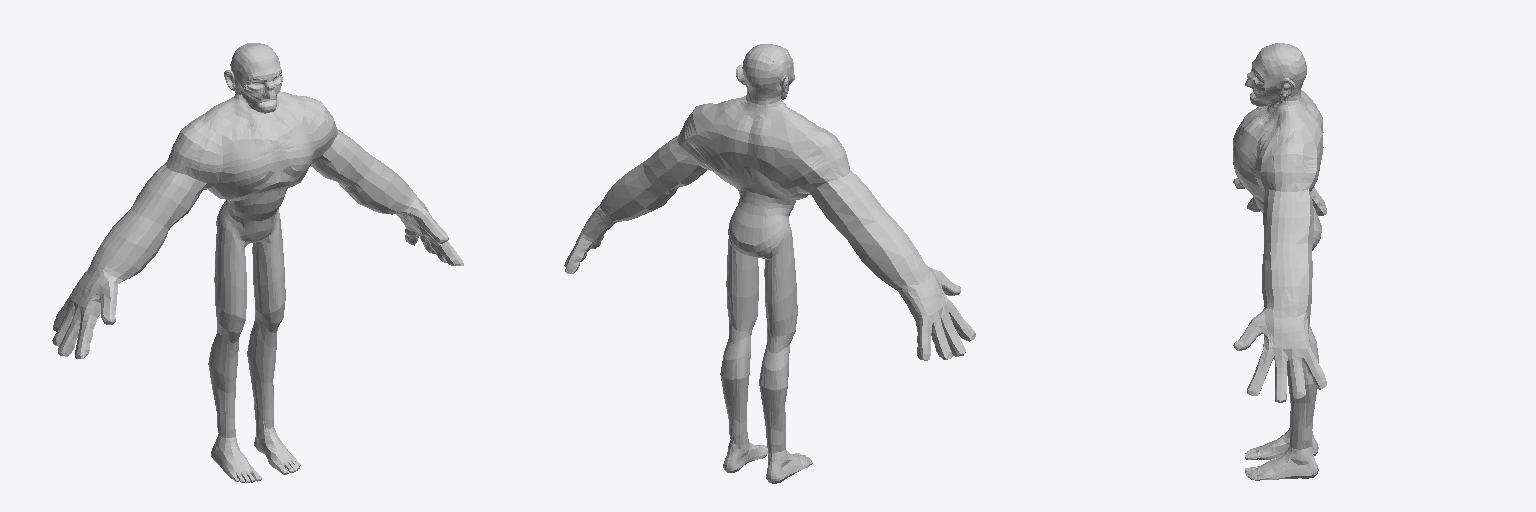
File: Sarge_Retopo_02.obj
3 renders of one model, left to right at view 1: azimuth 30°, elevation 25°; view 2: azimuth 150°, elevation 25°; view 3: azimuth 270°, elevation 25°, orthographic.
Parts seen in each view (by area): view 1: LowResSarge; view 2: LowResSarge; view 3: LowResSarge.
Part boxes in pixels (x1,y1,x2,y2): LowResSarge: (52, 43, 463, 482); LowResSarge: (564, 44, 975, 483); LowResSarge: (1233, 43, 1326, 480).
Bounding box in the file's own units: 12.93 × 13.16 × 2.69.